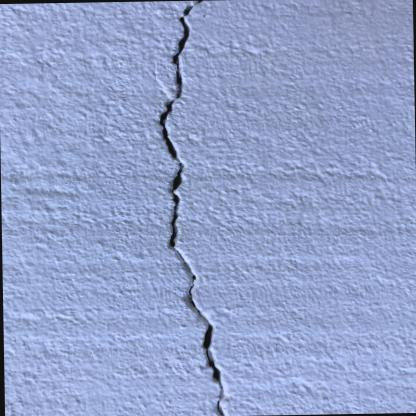crack: (154, 0, 228, 416)
